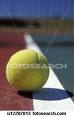tennis ball: (6, 48, 50, 91)
